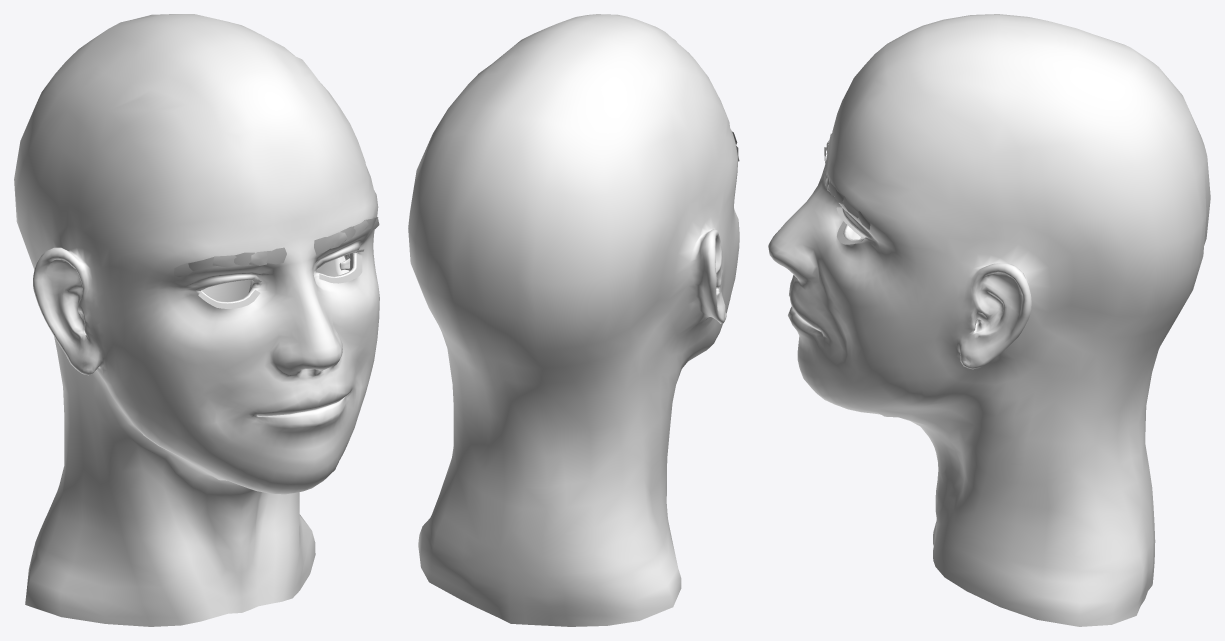
Rendered from Basis.obj.
3 views of the same model, side by side, from view 1: azimuth 30°, elevation 25°; view 2: azimuth 150°, elevation 25°; view 3: azimuth 270°, elevation 25° (orthographic). The views are drawn at different scales.
Visible parts, largest first — view 1: FaceMesh_Plane.003; view 2: FaceMesh_Plane.003; view 3: FaceMesh_Plane.003.
Boxes of the visible parts, x1,y1,x2,y2 form: FaceMesh_Plane.003: (14, 14, 379, 626); FaceMesh_Plane.003: (408, 14, 739, 626); FaceMesh_Plane.003: (768, 14, 1210, 626).
Bounding box in the file's own units: 1.54 × 2.71 × 1.94.
5 materials, 1 textured.
